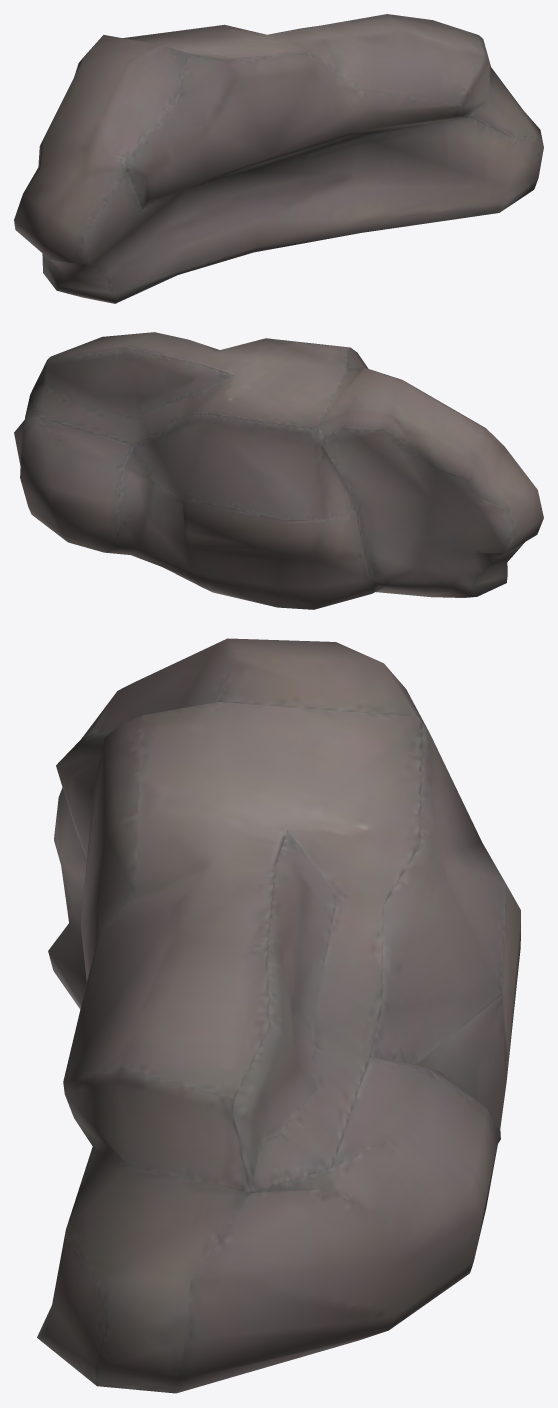
The picture shows the model from 3 angles, top to bottom: view 1: azimuth 30°, elevation 25°; view 2: azimuth 150°, elevation 25°; view 3: azimuth 270°, elevation 25°; orthographic projection. The views are drawn at different scales.
Visible parts, largest first — view 1: body0_model0_lod0_mesh0; view 2: body0_model0_lod0_mesh0; view 3: body0_model0_lod0_mesh0.
Boxes of the visible parts, x1=… form: body0_model0_lod0_mesh0: x1=14, y1=14, x2=543, y2=303; body0_model0_lod0_mesh0: x1=14, y1=332, x2=543, y2=609; body0_model0_lod0_mesh0: x1=37, y1=638, x2=520, y2=1393.
Size of the model in its own units: 327 by 130 by 134.
1 material, 1 textured.
